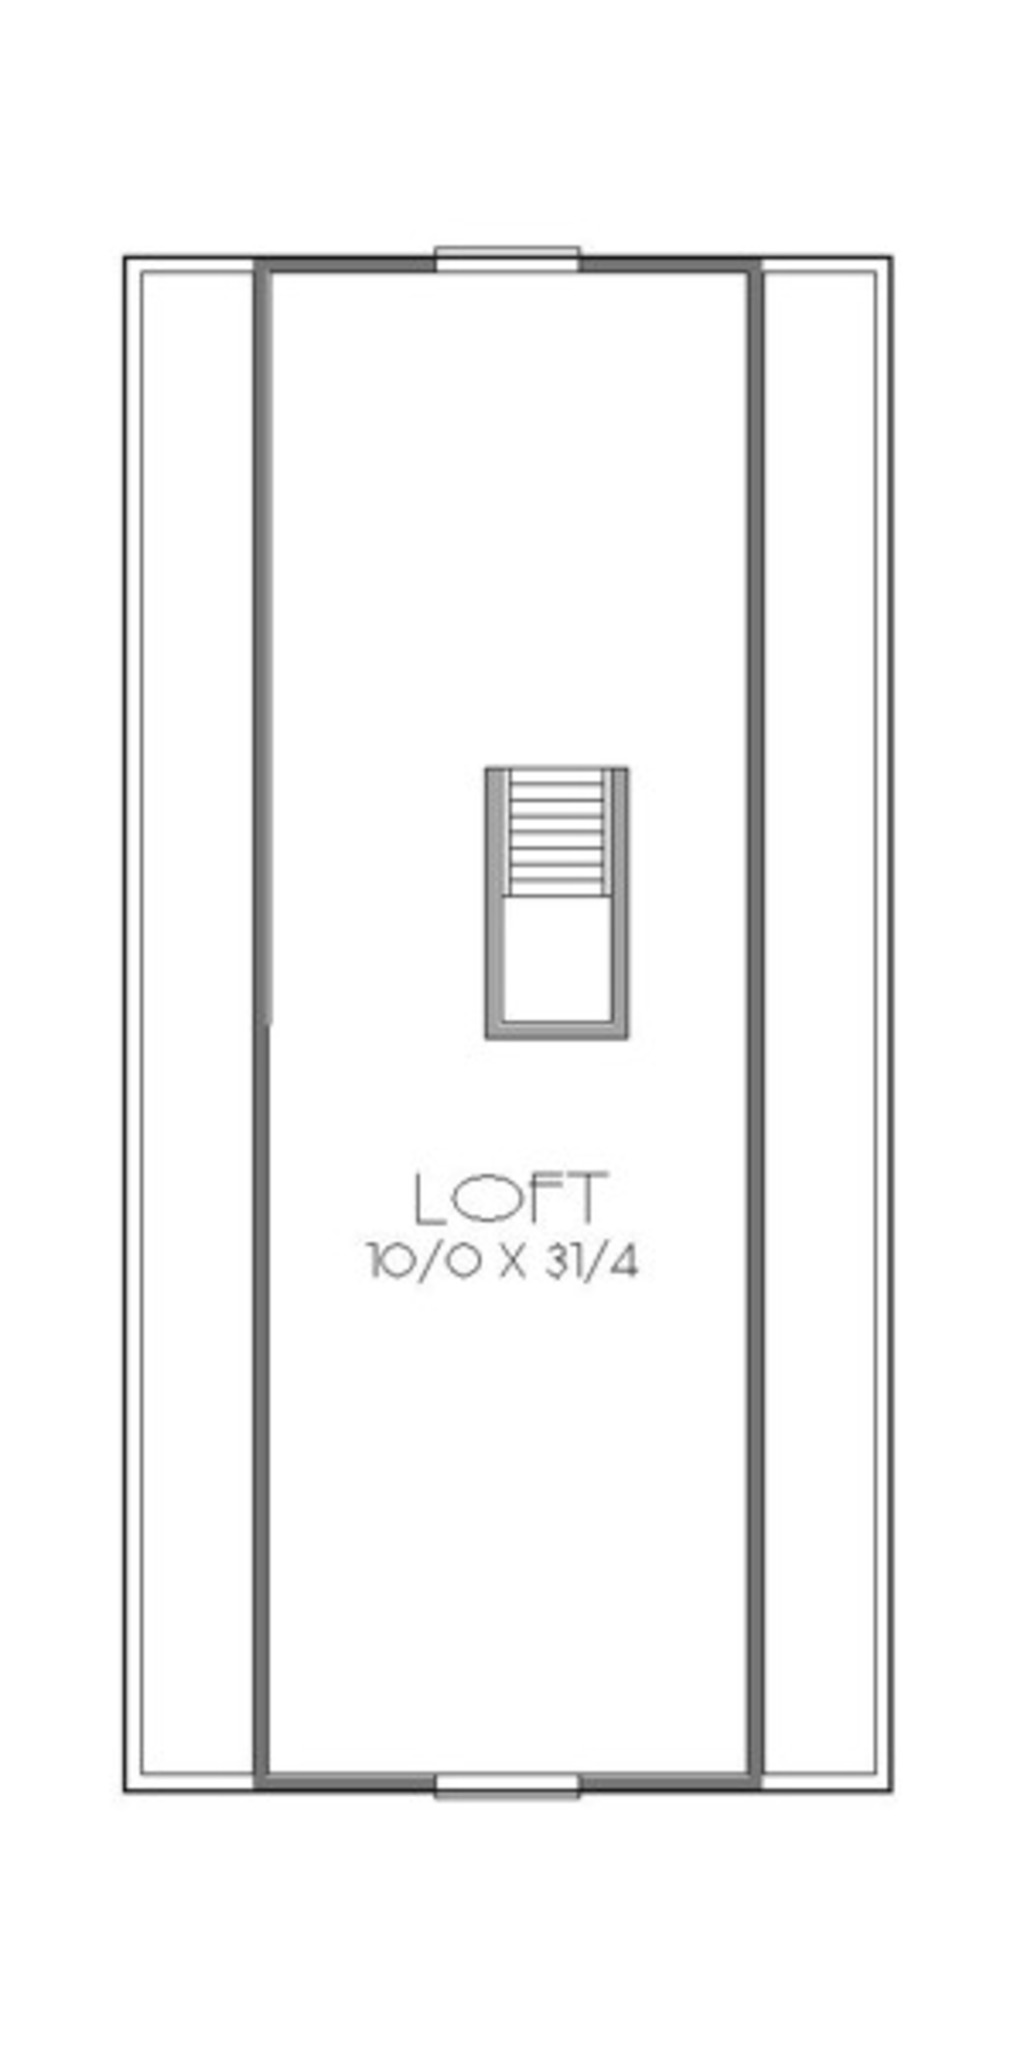stairs: (419, 717, 660, 1083)
window: (419, 230, 594, 298), (422, 1767, 603, 1814)
